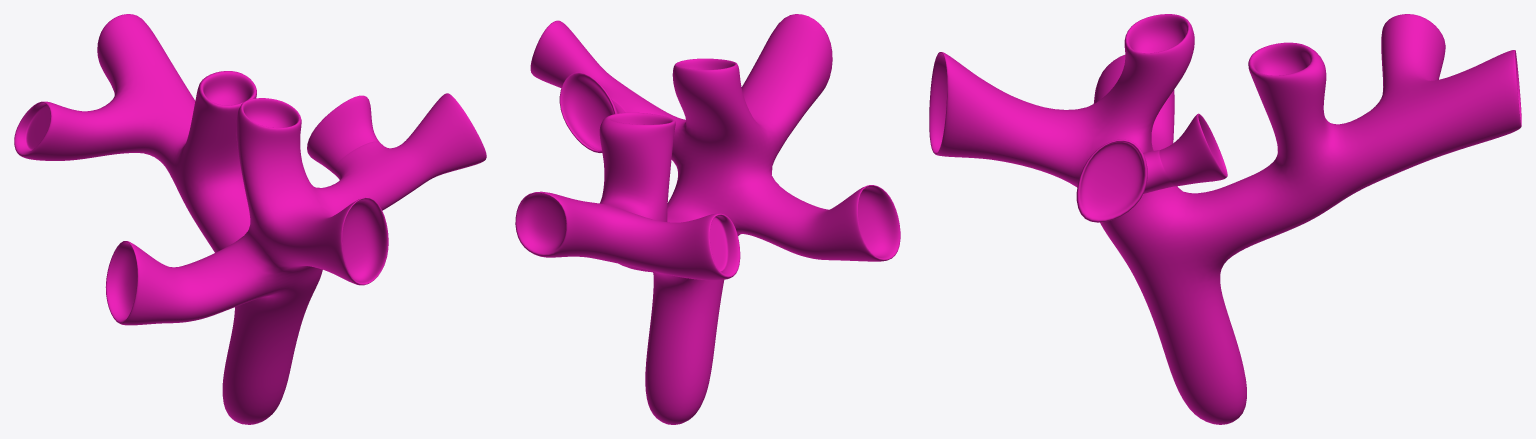
The model's file is coral.glb.
The picture shows the model from 3 angles, left to right: view 1: azimuth 30°, elevation 25°; view 2: azimuth 150°, elevation 25°; view 3: azimuth 270°, elevation 25°; orthographic projection. The views are drawn at different scales.
Parts seen in each view (by area): view 1: Cube; view 2: Cube; view 3: Cube.
Boxes of the visible parts, left/top/right/bottom form: Cube: left=14, top=14, right=486, bottom=424; Cube: left=515, top=14, right=900, bottom=424; Cube: left=929, top=14, right=1521, bottom=424.
Bounding box in the file's own units: 11.64 × 10.6 × 14.48.
